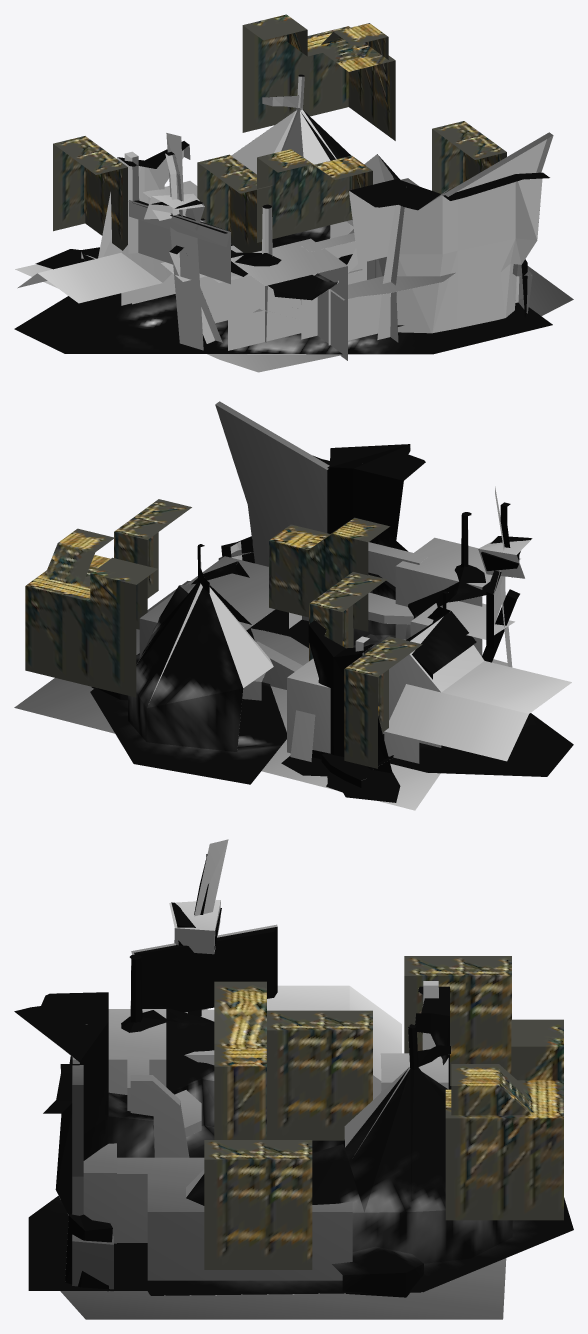
File: T_MarketPlace_01.fbx
3 renders of one model, top to bottom at view 1: azimuth 30°, elevation 25°; view 2: azimuth 150°, elevation 25°; view 3: azimuth 270°, elevation 25°, orthographic. The views are drawn at different scales.
Parts seen in each view (by area): view 1: T_MarketPlace_01, FX_Territory_NightGlow, T_MarketPlace_01_Lock, T_BuildForm_01, FX_BuildUnLock_Glow, T_BuildForm_03 (1), T_BuildForm_02 (6), T_BuildForm_02 (4), T_BuildForm_02 (5); view 2: FX_Territory_NightGlow, FX_BuildUnLock_Glow, T_BuildForm_01, T_BuildForm_03 (1), T_BuildForm_02 (6), T_BuildForm_02 (5), T_MarketPlace_01, T_BuildForm_02 (4), T_MarketPlace_01_Lock; view 3: FX_Territory_NightGlow, FX_BuildUnLock_Glow, T_BuildForm_01, T_BuildForm_02 (5), T_BuildForm_02 (4), T_BuildForm_02 (6), T_BuildForm_03 (1), T_MarketPlace_01.
Part boxes in pixels (x1,y1,x2,y2): T_MarketPlace_01: [14, 76, 549, 354]; FX_Territory_NightGlow: [14, 74, 552, 354]; T_MarketPlace_01_Lock: [15, 133, 572, 360]; T_BuildForm_01: [242, 14, 395, 140]; FX_BuildUnLock_Glow: [15, 132, 573, 372]; T_BuildForm_03 (1): [257, 149, 372, 242]; T_BuildForm_02 (6): [53, 136, 127, 250]; T_BuildForm_02 (4): [197, 154, 272, 252]; T_BuildForm_02 (5): [432, 121, 506, 193]; FX_Territory_NightGlow: [90, 444, 573, 802]; FX_BuildUnLock_Glow: [14, 401, 571, 810]; T_BuildForm_01: [25, 528, 157, 697]; T_BuildForm_03 (1): [269, 517, 389, 631]; T_BuildForm_02 (6): [344, 636, 422, 768]; T_BuildForm_02 (5): [114, 499, 191, 629]; T_MarketPlace_01: [150, 448, 564, 776]; T_BuildForm_02 (4): [309, 572, 386, 661]; T_MarketPlace_01_Lock: [263, 486, 528, 757]; FX_Territory_NightGlow: [14, 854, 573, 1297]; FX_BuildUnLock_Glow: [60, 839, 506, 1319]; T_BuildForm_01: [445, 1019, 563, 1220]; T_BuildForm_02 (5): [204, 1140, 312, 1269]; T_BuildForm_02 (4): [267, 1010, 372, 1140]; T_BuildForm_02 (6): [404, 956, 511, 1085]; T_BuildForm_03 (1): [214, 981, 266, 1139]; T_MarketPlace_01: [23, 942, 442, 1295].
Bounding box in the file's own units: 14.06 × 6.4 × 11.99.
